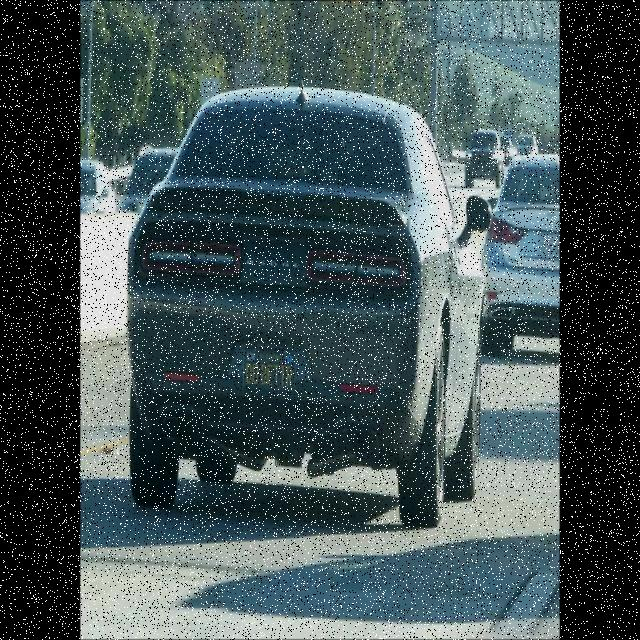licenseplate: (246, 351, 296, 402), (538, 237, 561, 264)
